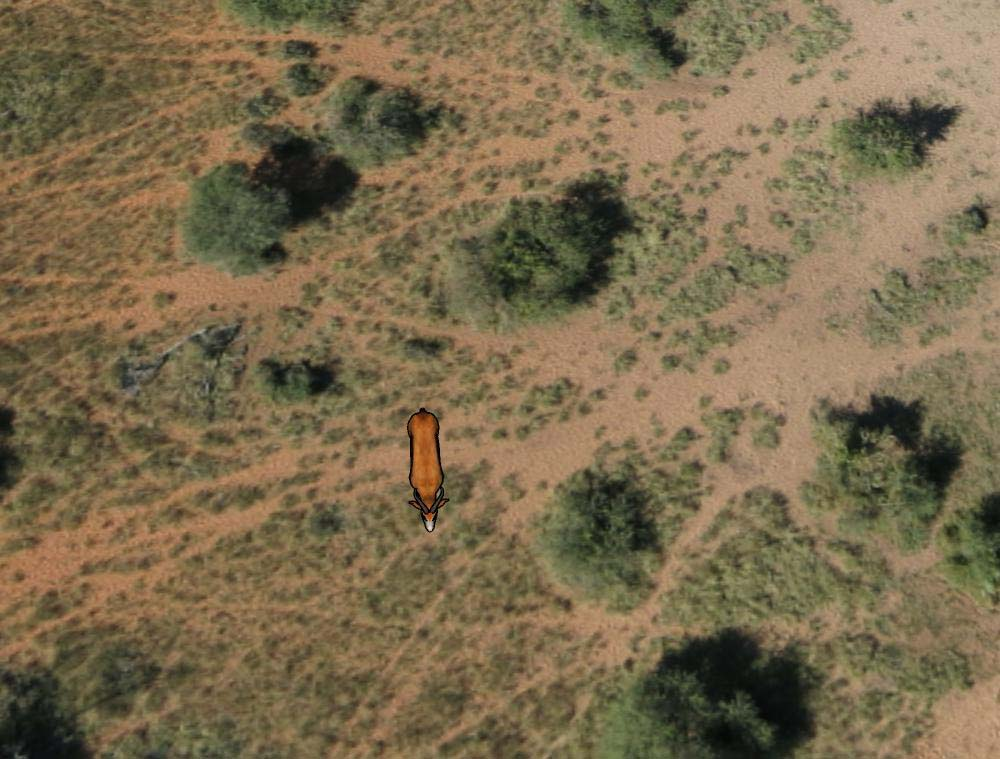springbok: (404, 403, 451, 536)
